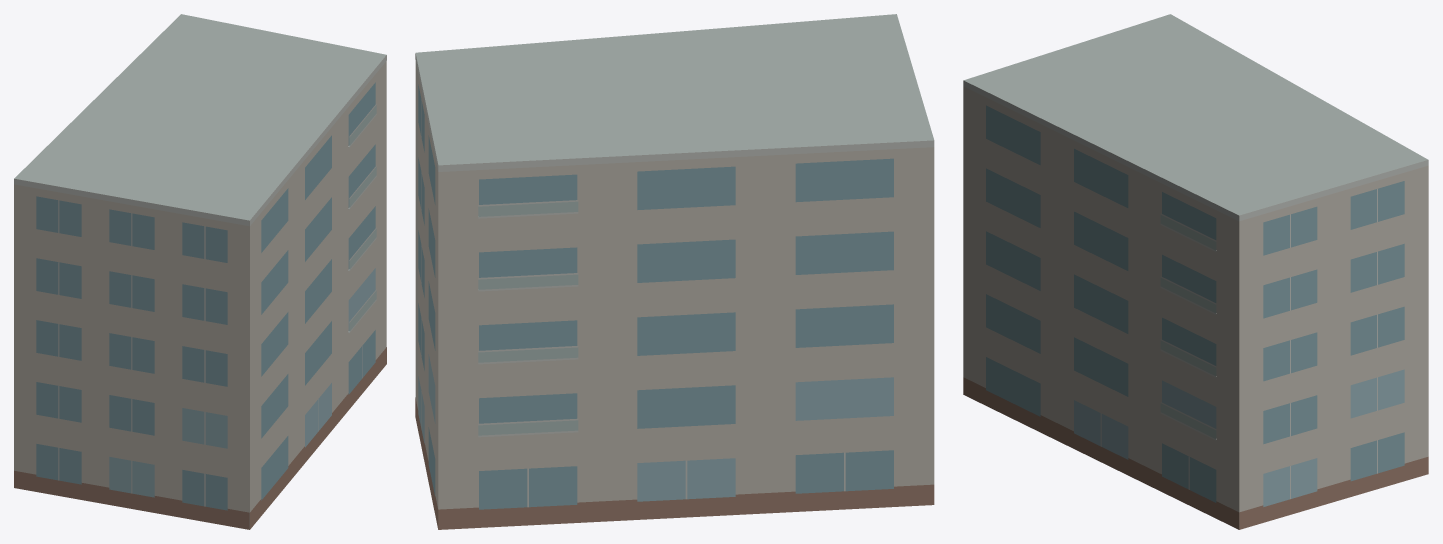
File: survey-upis-33046524.glb
3 views of the same model, side by side, from view 1: azimuth 30°, elevation 25°; view 2: azimuth 150°, elevation 25°; view 3: azimuth 270°, elevation 25° (orthographic). The views are drawn at different scales.
Parts seen in each view (by area): view 1: survey-upis-33046524.tmp; view 2: survey-upis-33046524.tmp; view 3: survey-upis-33046524.tmp.
Part boxes in pixels (x1,y1,x2,y2): survey-upis-33046524.tmp: (14, 14, 386, 529); survey-upis-33046524.tmp: (415, 14, 934, 529); survey-upis-33046524.tmp: (963, 14, 1428, 529).
Size of the model in its own units: 18.3 by 13.3 by 17.85.
